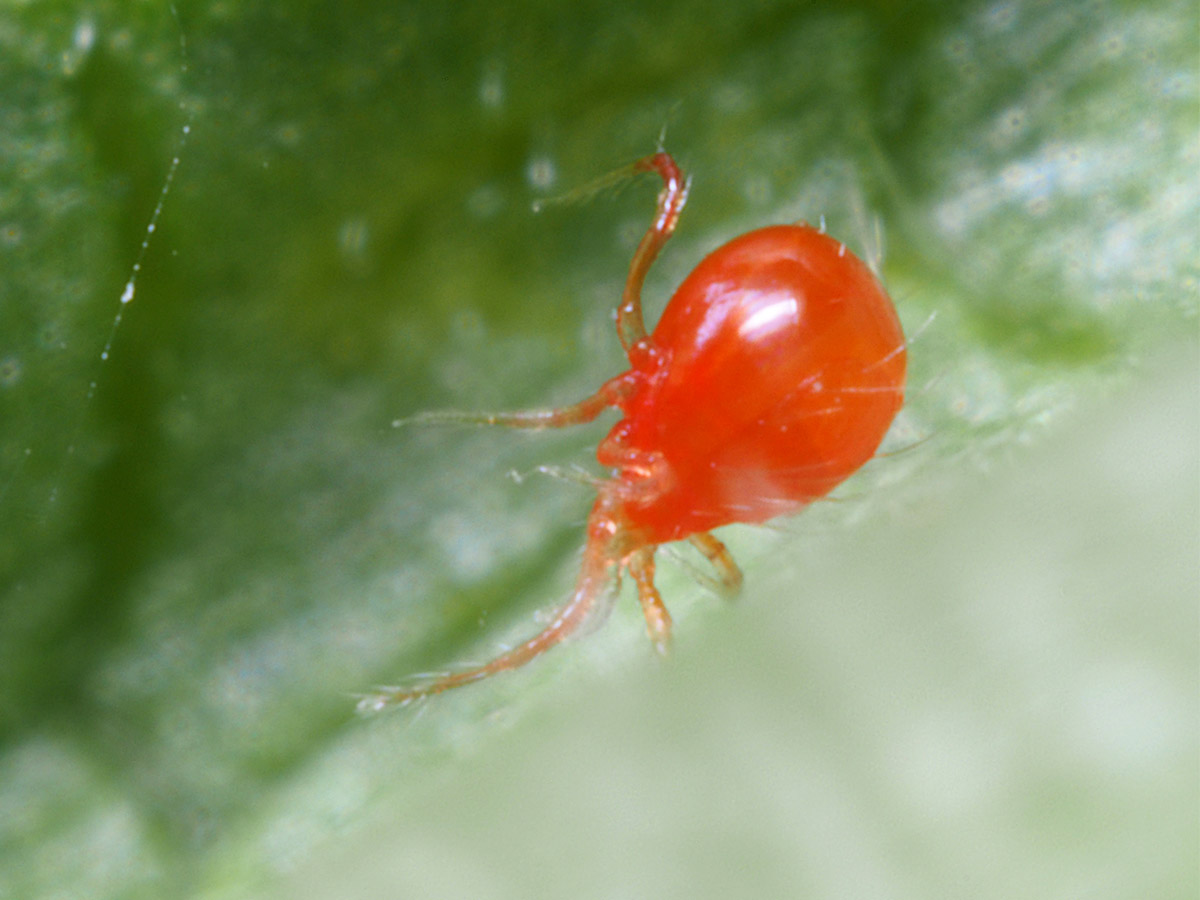Mites: (391, 148, 912, 719)
